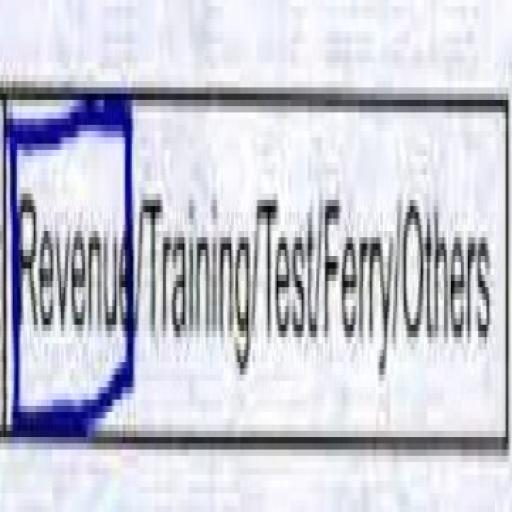check: (0, 18, 134, 512)
